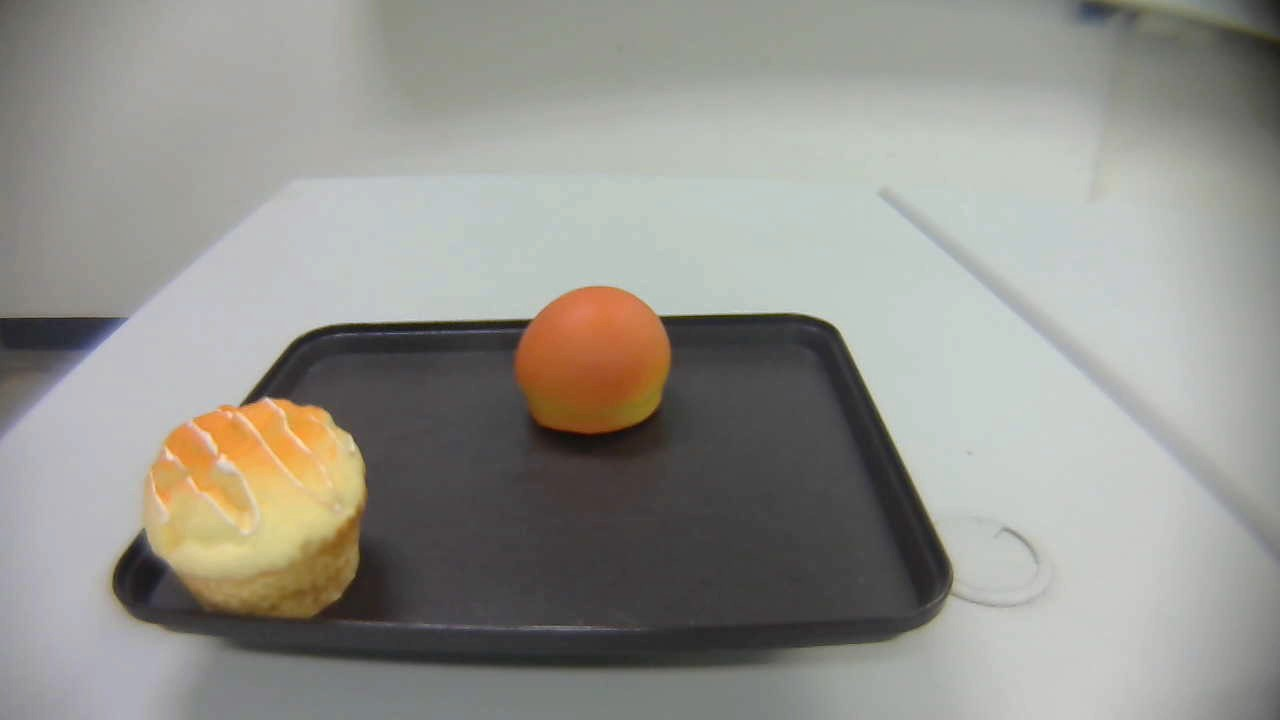bun: (512, 285, 671, 435)
cupcake: (143, 398, 368, 619)
